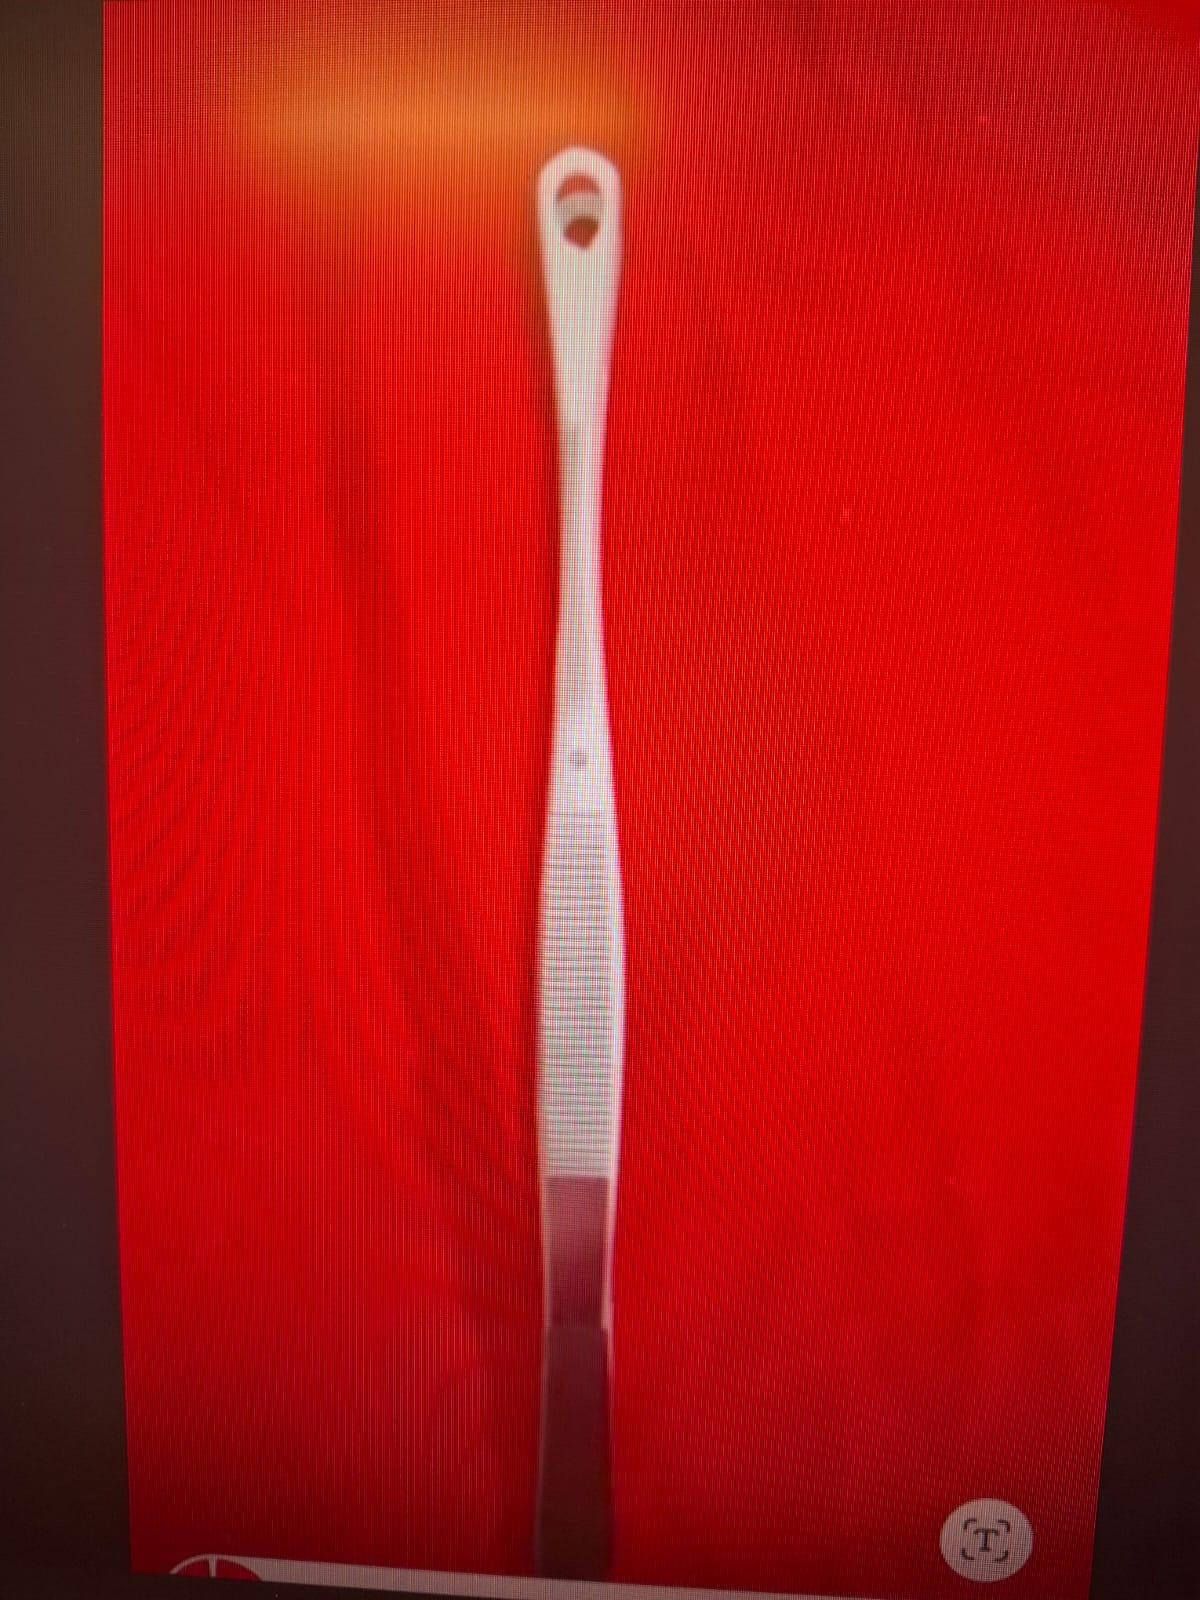Eye Intestinal Forceps: (475, 142, 707, 1590)
